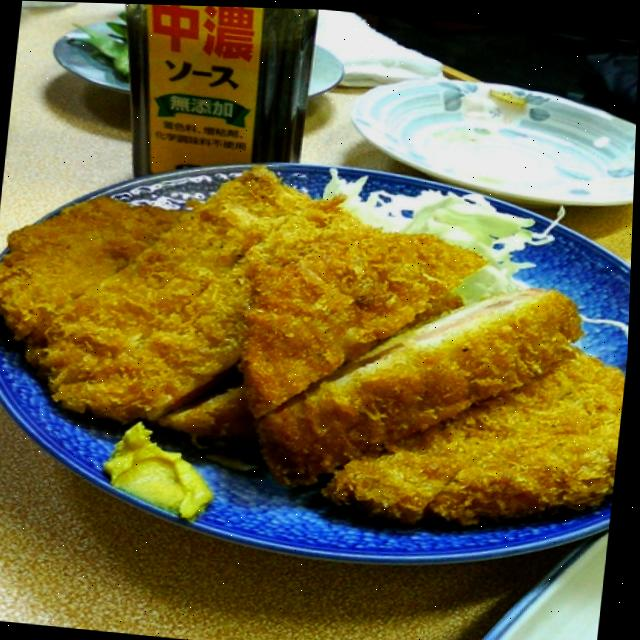炸货点心: (0, 131, 636, 579)
